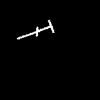double_crochet: (17, 20, 53, 38)
